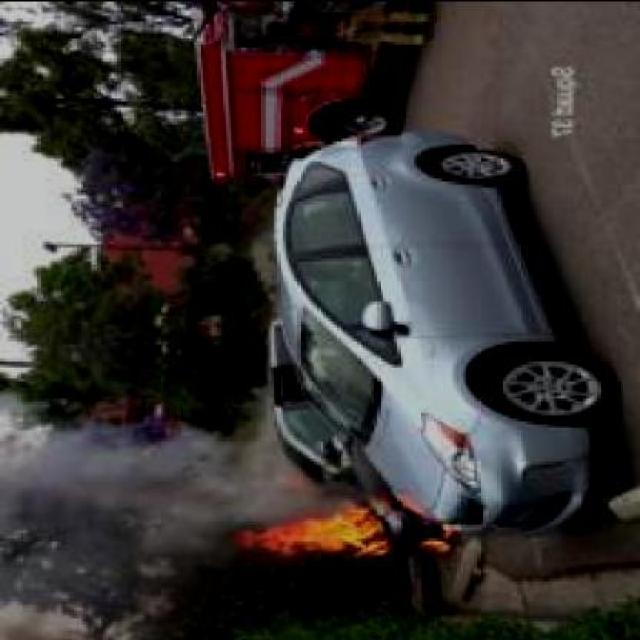Fire: (230, 504, 460, 559)
Smoke: (0, 425, 230, 640)
